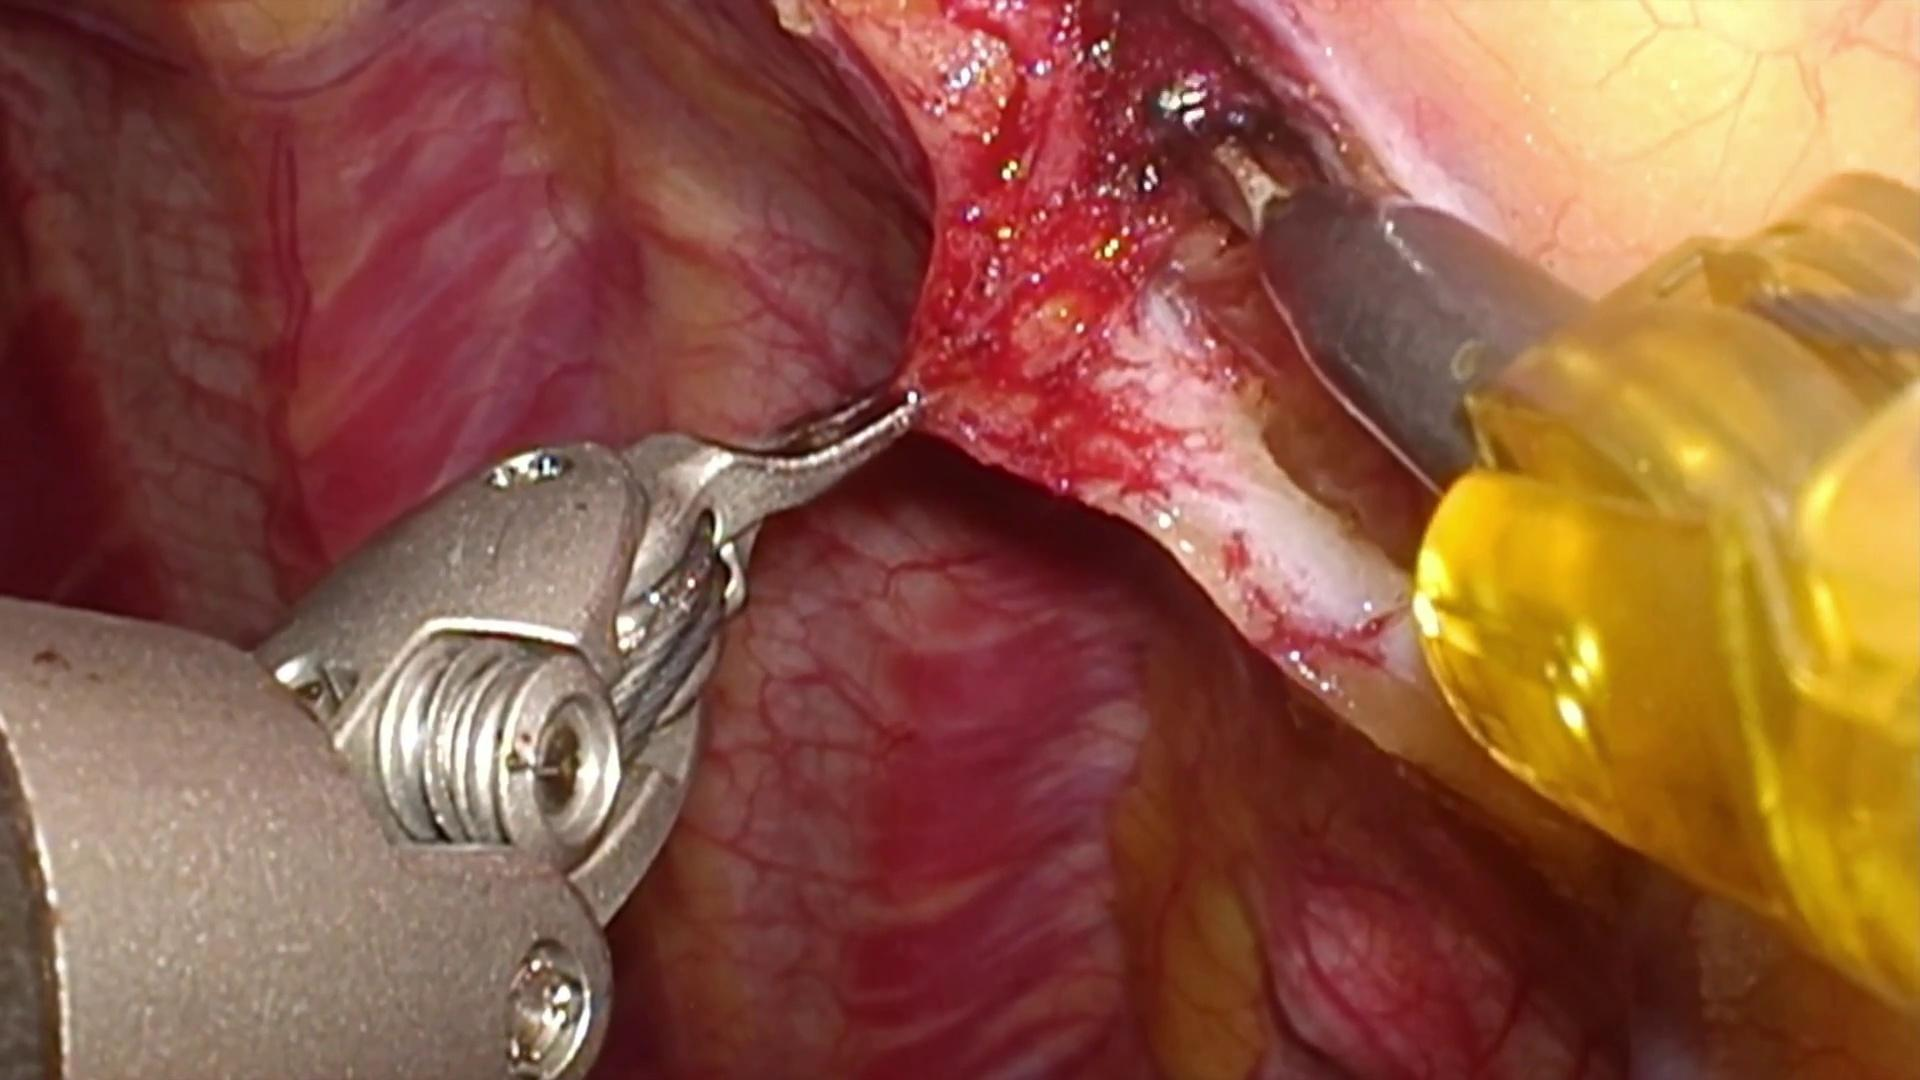Cautery_Spatula: (1172, 120, 1602, 493)
Debakey: (624, 355, 940, 588)
